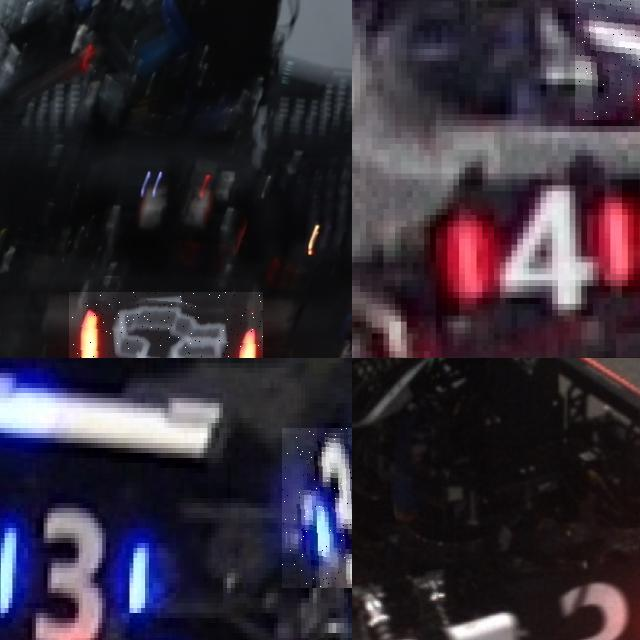B3: (0, 490, 162, 640), (281, 428, 352, 588)
R4: (441, 185, 640, 315), (575, 0, 640, 120)
Rs: (69, 292, 262, 358)
